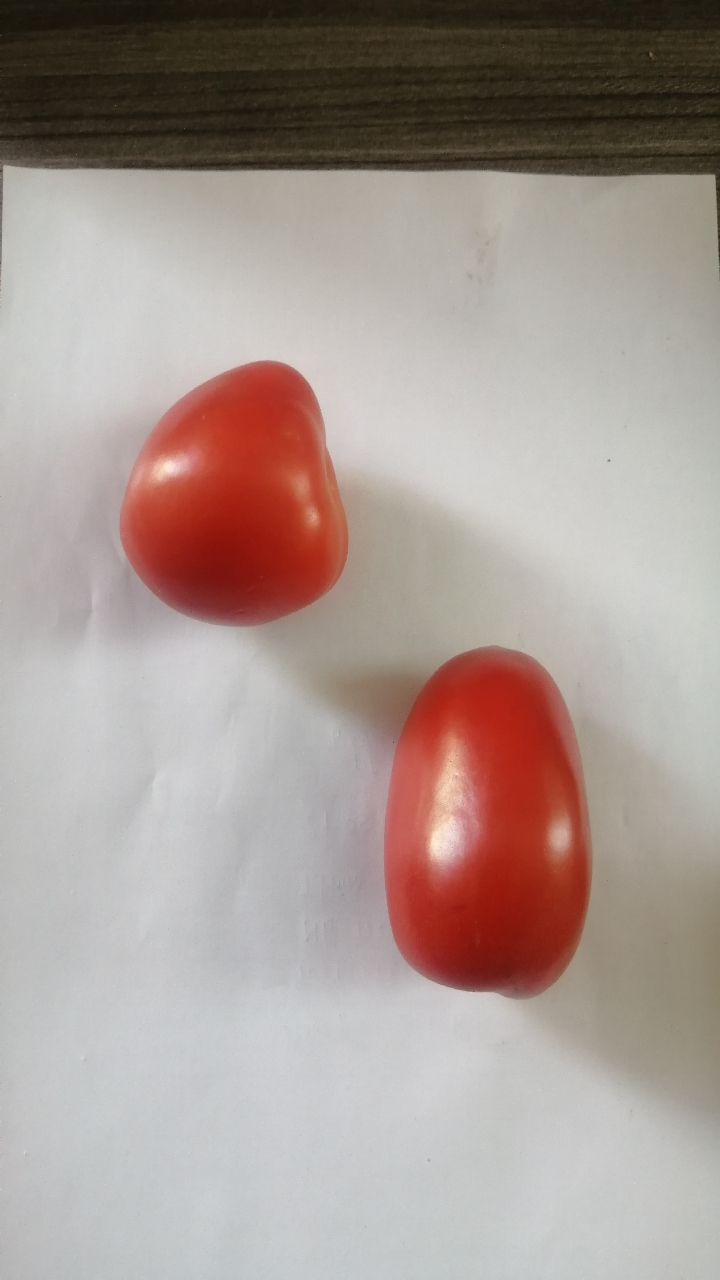tomateRojo: (357, 626, 611, 1026), (97, 340, 366, 646)
